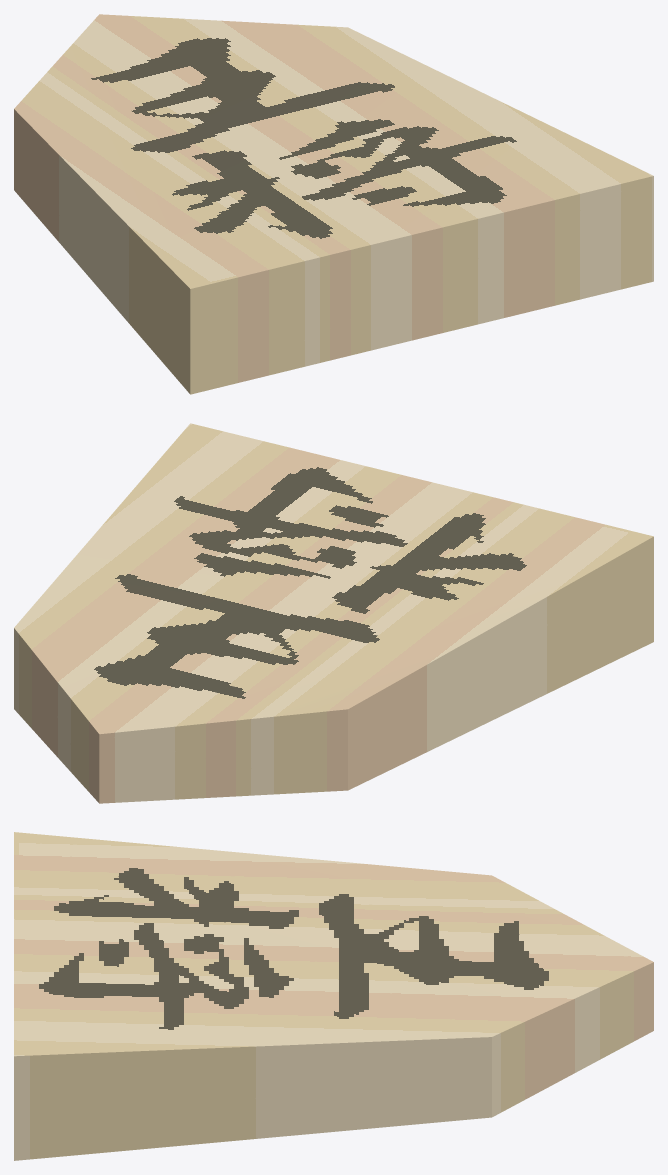
The model's file is 01b5_Ousho.glb.
3 renders of one model, top to bottom at view 1: azimuth 30°, elevation 25°; view 2: azimuth 150°, elevation 25°; view 3: azimuth 270°, elevation 25°, orthographic.
Parts seen in each view (by area): view 1: part_0; view 2: part_0; view 3: part_0.
Boxes of the visible parts, x1,y1,x2,y2 form: part_0: [14, 14, 653, 394]; part_0: [14, 423, 653, 803]; part_0: [14, 832, 653, 1160].
Size of the model in its own units: 0.0296 by 0.00644 by 0.0357.
1 material, 1 textured.
